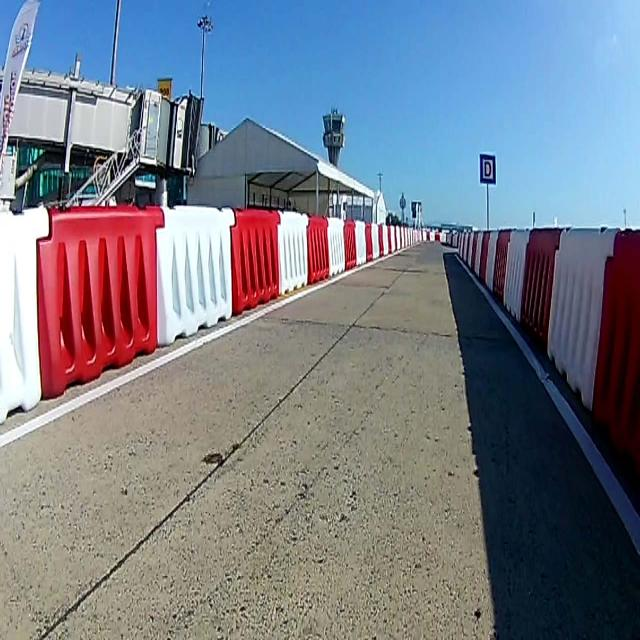durak: (481, 154, 495, 184)
